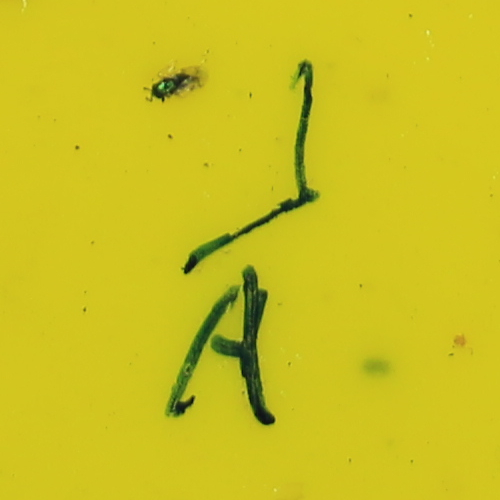wasp: (140, 70, 196, 97)
